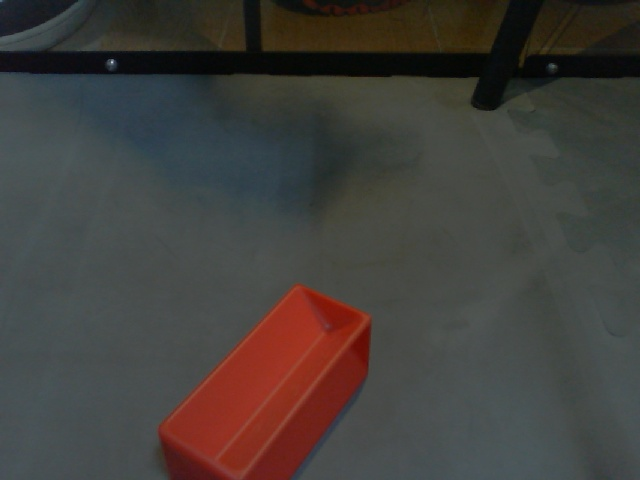RedSample: (155, 282, 373, 480)
